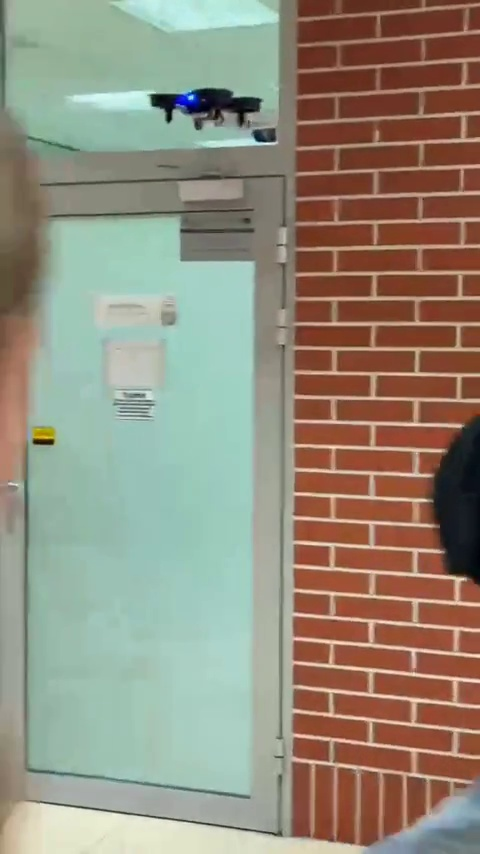drone: (138, 90, 259, 124)
